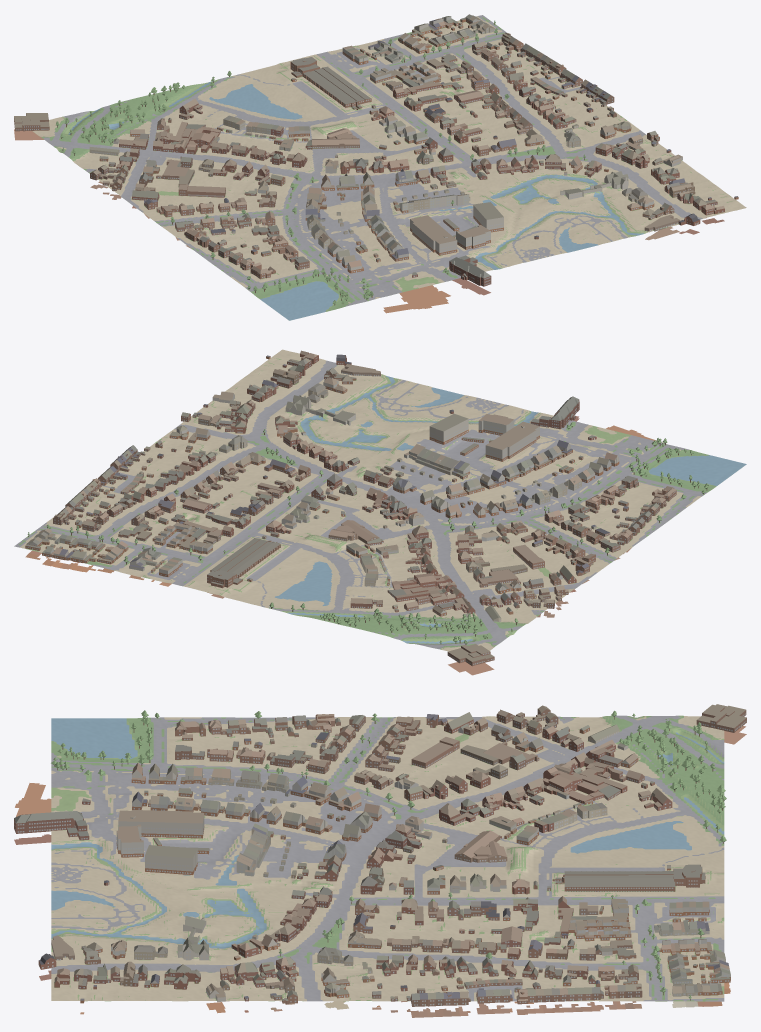
The model's file is bosven-veghel_x331_y807.glb.
The picture shows the model from 3 angles, top to bottom: view 1: azimuth 30°, elevation 25°; view 2: azimuth 150°, elevation 25°; view 3: azimuth 270°, elevation 25°; orthographic projection. The views are drawn at different scales.
Parts seen in each view (by area): view 1: class:sand, class:wall, class:roof, class:road, class:trim, class:grass, class:water, class:green, class:tree; view 2: class:sand, class:wall, class:roof, class:road, class:trim, class:water, class:green, class:grass, class:tree; view 3: class:sand, class:roof, class:wall, class:road, class:water, class:trim, class:grass, class:green, class:tree.
Boxes of the visible parts, x1,y1,x2,y2 form: class:sand: [33, 16, 746, 303]; class:wall: [14, 16, 738, 313]; class:roof: [14, 14, 737, 278]; class:road: [43, 15, 702, 306]; class:trim: [16, 18, 723, 285]; class:grass: [32, 20, 735, 310]; class:water: [68, 81, 643, 320]; class:green: [41, 17, 587, 311]; class:tree: [56, 20, 585, 303]; class:sand: [20, 349, 701, 651]; class:wall: [25, 352, 676, 675]; class:roof: [26, 350, 676, 661]; class:road: [14, 360, 706, 649]; class:trim: [26, 357, 675, 664]; class:water: [275, 376, 746, 643]; class:green: [19, 422, 716, 647]; class:grass: [25, 357, 711, 649]; class:tree: [27, 422, 708, 644]; class:sand: [51, 716, 724, 1001]; class:roof: [14, 704, 746, 1000]; class:wall: [14, 707, 746, 1017]; class:road: [51, 715, 724, 1001]; class:water: [51, 718, 724, 948]; class:trim: [14, 711, 746, 1006]; class:grass: [51, 715, 724, 1001]; class:green: [51, 715, 724, 1001]; class:tree: [51, 710, 726, 998].
Bounding box in the file's own units: 524 × 24.1 × 545.
